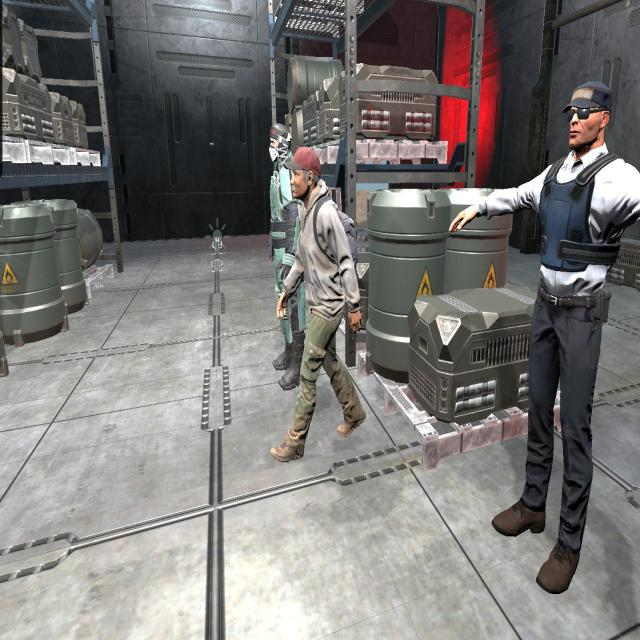thiefs: (268, 145, 375, 468)
